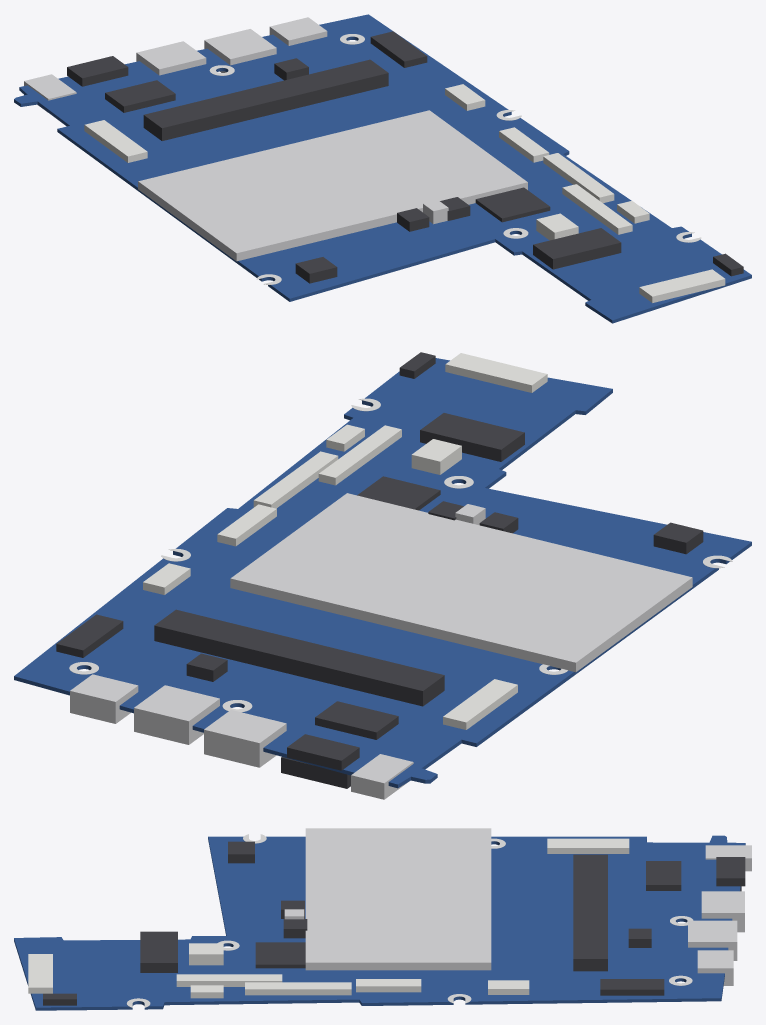
File: board.glb
3 views of the same model, one above another, from view 1: azimuth 30°, elevation 25°; view 2: azimuth 150°, elevation 25°; view 3: azimuth 270°, elevation 25° (orthographic). The views are drawn at different scales.
Visible parts, largest first — view 1: PCB, cpu_heatplate, sodimm_slot, m2_socket, usb_a_1, ec_chip, fpc_8, hdmi, lan_magnetics, fpc_1, fpc_6, ethernet_top_block (+10 smaller); view 2: PCB, cpu_heatplate, sodimm_slot, usb_a_1, hdmi, m2_socket, usb_a_2, fpc_8, lan_magnetics, fpc_1, fpc_6, ethernet_top_block (+10 smaller); view 3: PCB, cpu_heatplate, sodimm_slot, m2_socket, fpc_5, usb_a_1, ec_chip, hdmi, fpc_1, fpc_6, fpc_2, lan_magnetics (+12 smaller).
Boxes of the visible parts, x1,y1,x2,y2 form: PCB: (14, 14, 751, 323); cpu_heatplate: (138, 110, 527, 261); sodimm_slot: (143, 59, 388, 140); m2_socket: (533, 228, 621, 269); usb_a_1: (204, 29, 276, 72); ec_chip: (475, 187, 550, 222); fpc_8: (639, 269, 725, 302); hdmi: (136, 41, 206, 75); lan_magnetics: (105, 80, 175, 112); fpc_1: (84, 120, 147, 162); fpc_6: (562, 184, 632, 234); ethernet_top_block: (67, 56, 128, 86); PCB: (14, 358, 751, 788); cpu_heatplate: (230, 493, 692, 672); sodimm_slot: (154, 609, 444, 706); usb_a_1: (134, 685, 219, 744); hdmi: (204, 710, 286, 767); m2_socket: (420, 413, 524, 461); usb_a_2: (70, 674, 138, 723); fpc_8: (445, 353, 547, 392); lan_magnetics: (315, 701, 398, 739); fpc_1: (443, 679, 517, 729); fpc_6: (318, 425, 401, 485); ethernet_top_block: (287, 734, 359, 770); PCB: (14, 835, 745, 1010); cpu_heatplate: (305, 828, 491, 970); sodimm_slot: (573, 854, 607, 971); m2_socket: (140, 931, 177, 972); fpc_5: (245, 982, 351, 995); usb_a_1: (688, 920, 737, 960); ec_chip: (255, 942, 305, 968); hdmi: (701, 891, 744, 932); fpc_1: (547, 838, 629, 853); fpc_6: (176, 974, 282, 986); fpc_2: (600, 979, 664, 995); lan_magnetics: (646, 861, 681, 890).
Size of the model in its own units: 122 by 9 by 218.
